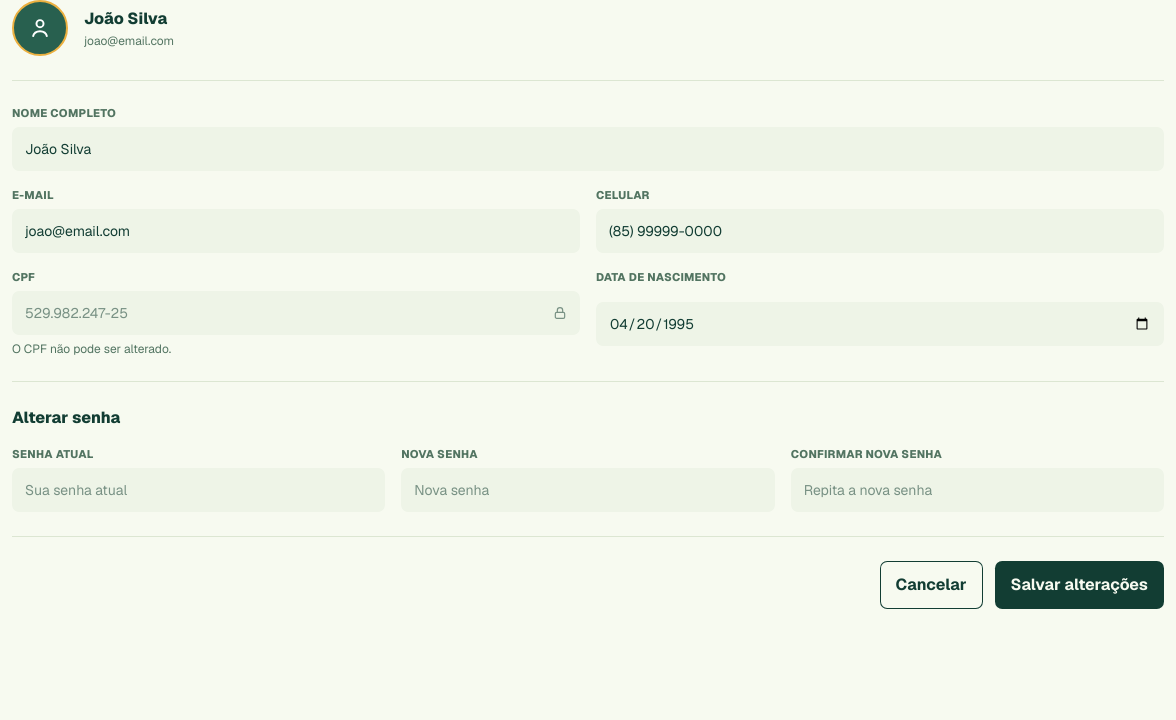
Test: FormularioEdicaoPerfil › troca a senha e salva os dados alterados na mesma ação
Type "senha-antiga-1" into the password field labelled "Senha atual" at point(199, 490), box [12,468,385,512]
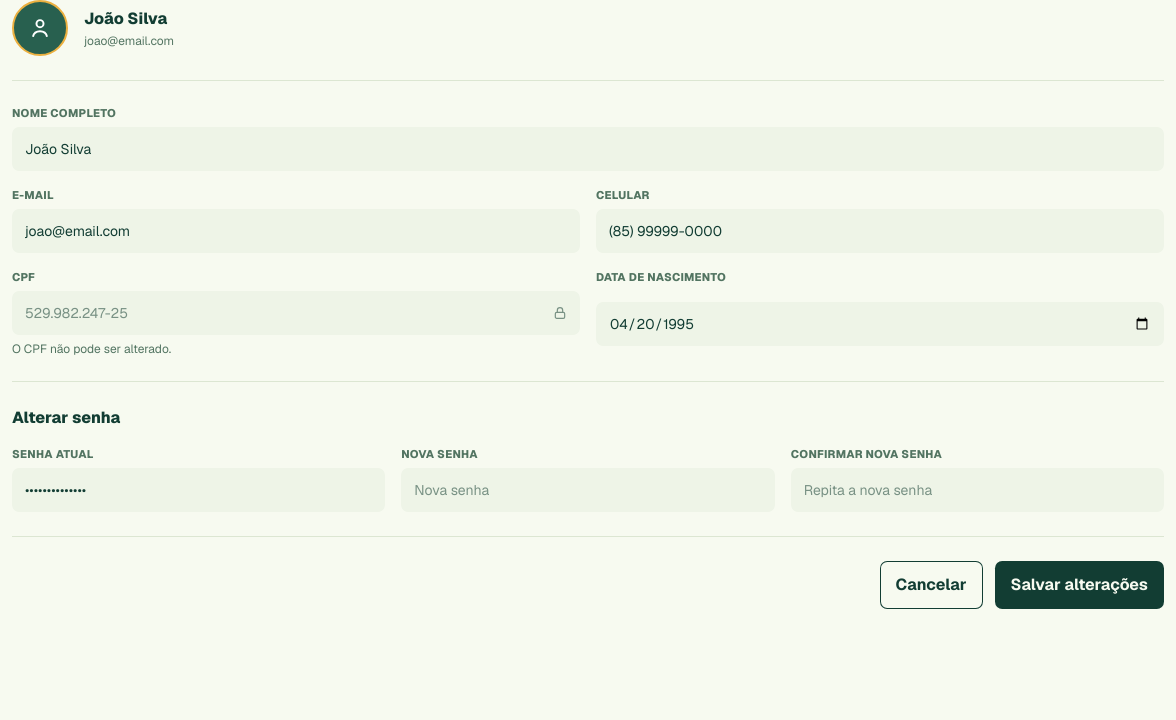
Type "senha-nova-123" into the password field labelled "Nova senha" at point(588, 490), box [401,468,775,512]
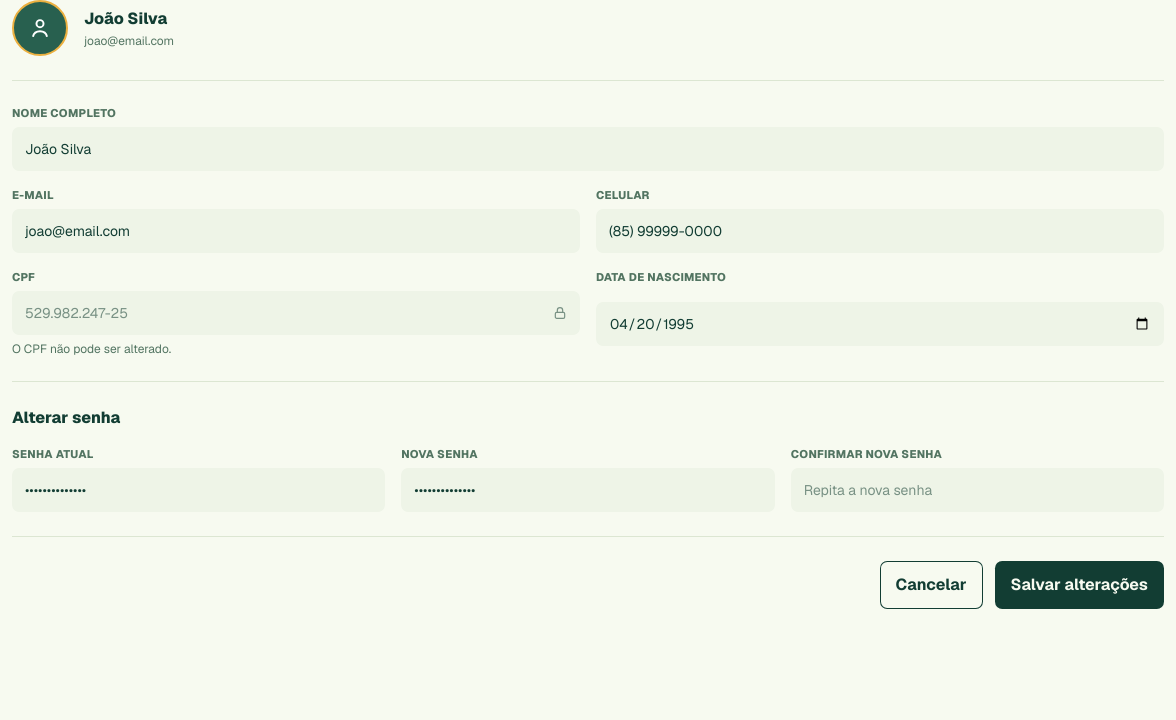
Type "senha-nova-123" into the password field labelled "Confirmar nova senha" at point(977, 490), box [791,468,1164,512]
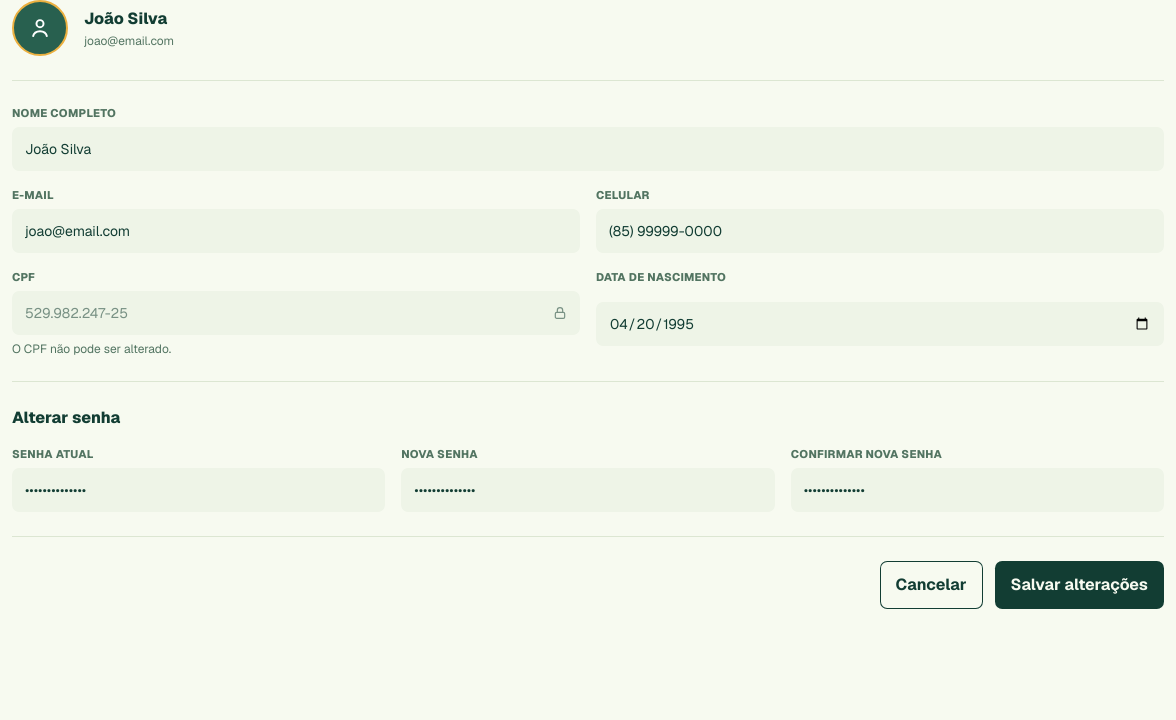
Replace the text in the field labelled "Nome completo" with "João Souza" at point(588, 149), box [12,127,1164,171]
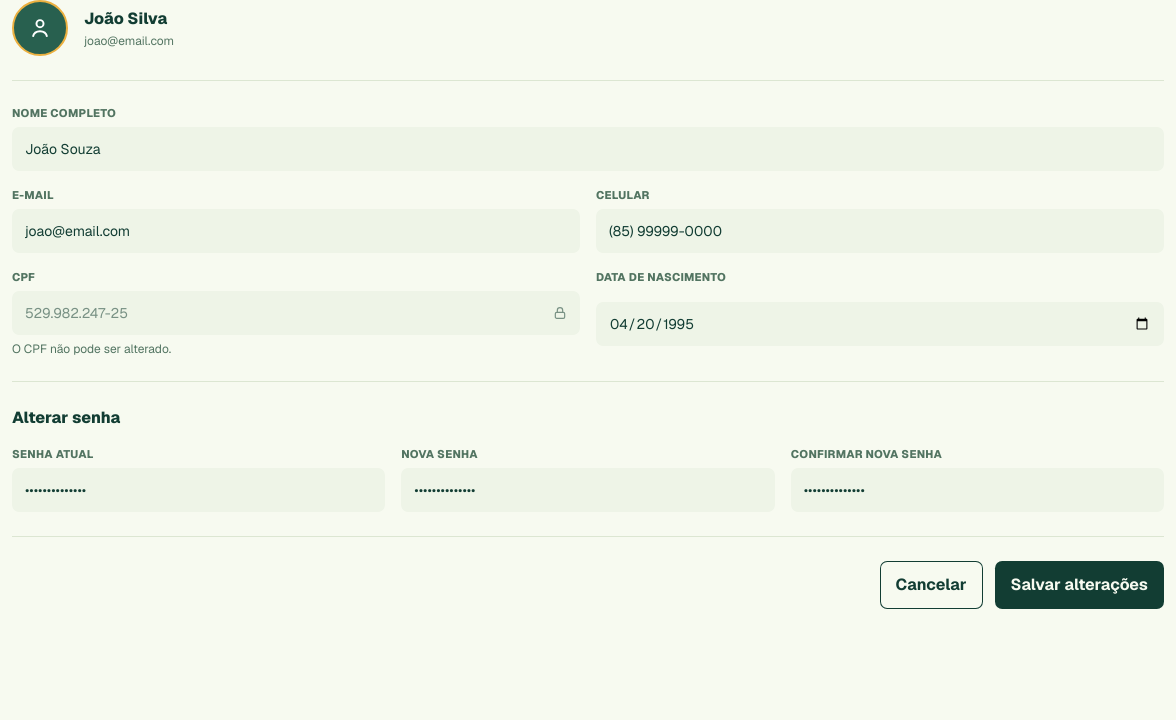
Click the button "Salvar alterações" at point(1079, 585), box [995,561,1164,609]
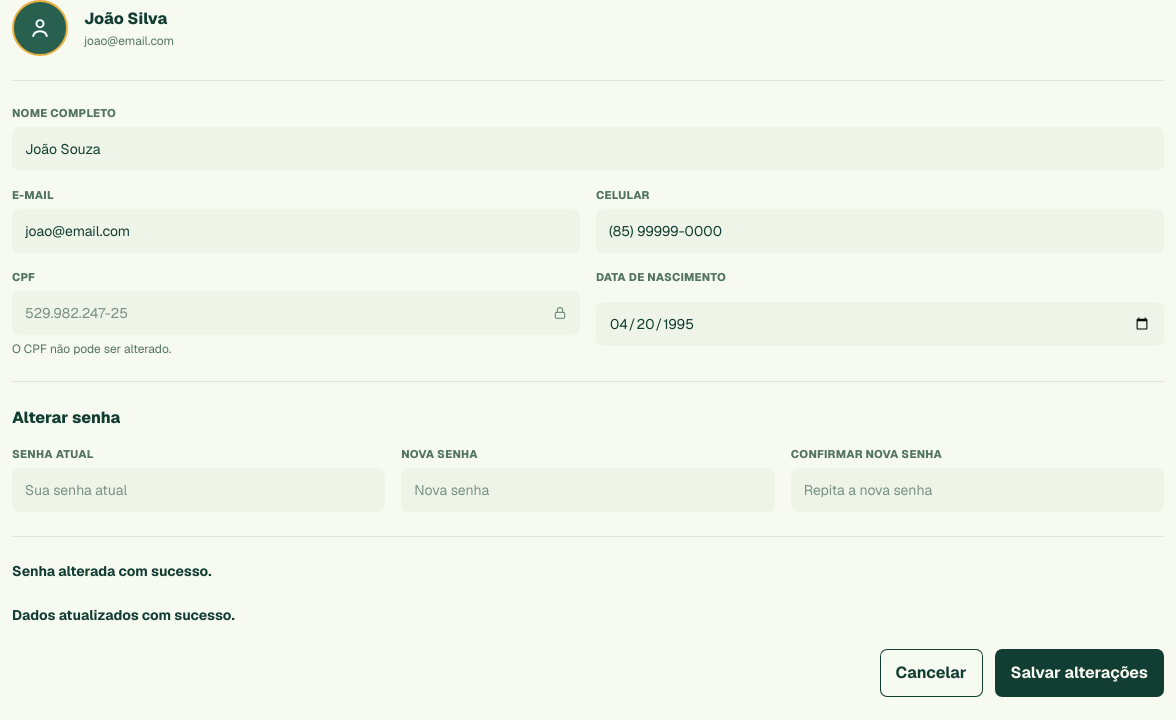
Result: the text "Senha alterada com sucesso." is shown at [12,562,212,580]
Result: the text "Dados atualizados com sucesso." is shown at [12,606,235,624]
